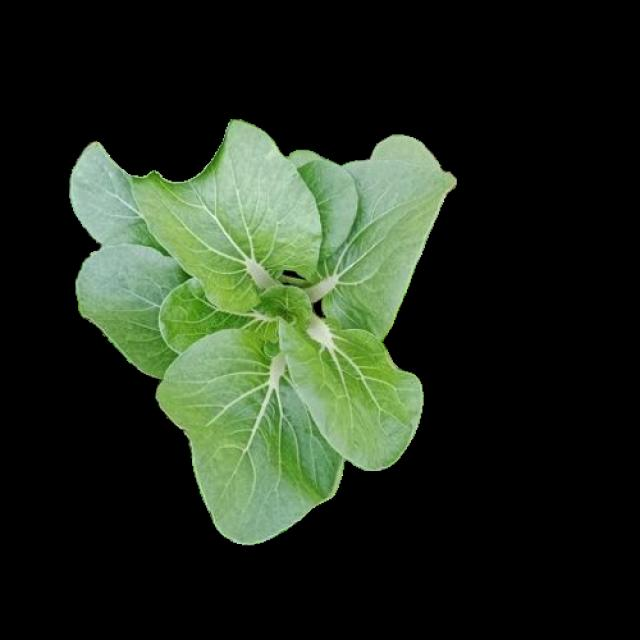healthy: (74, 119, 453, 538)
mature: (71, 118, 453, 539)
